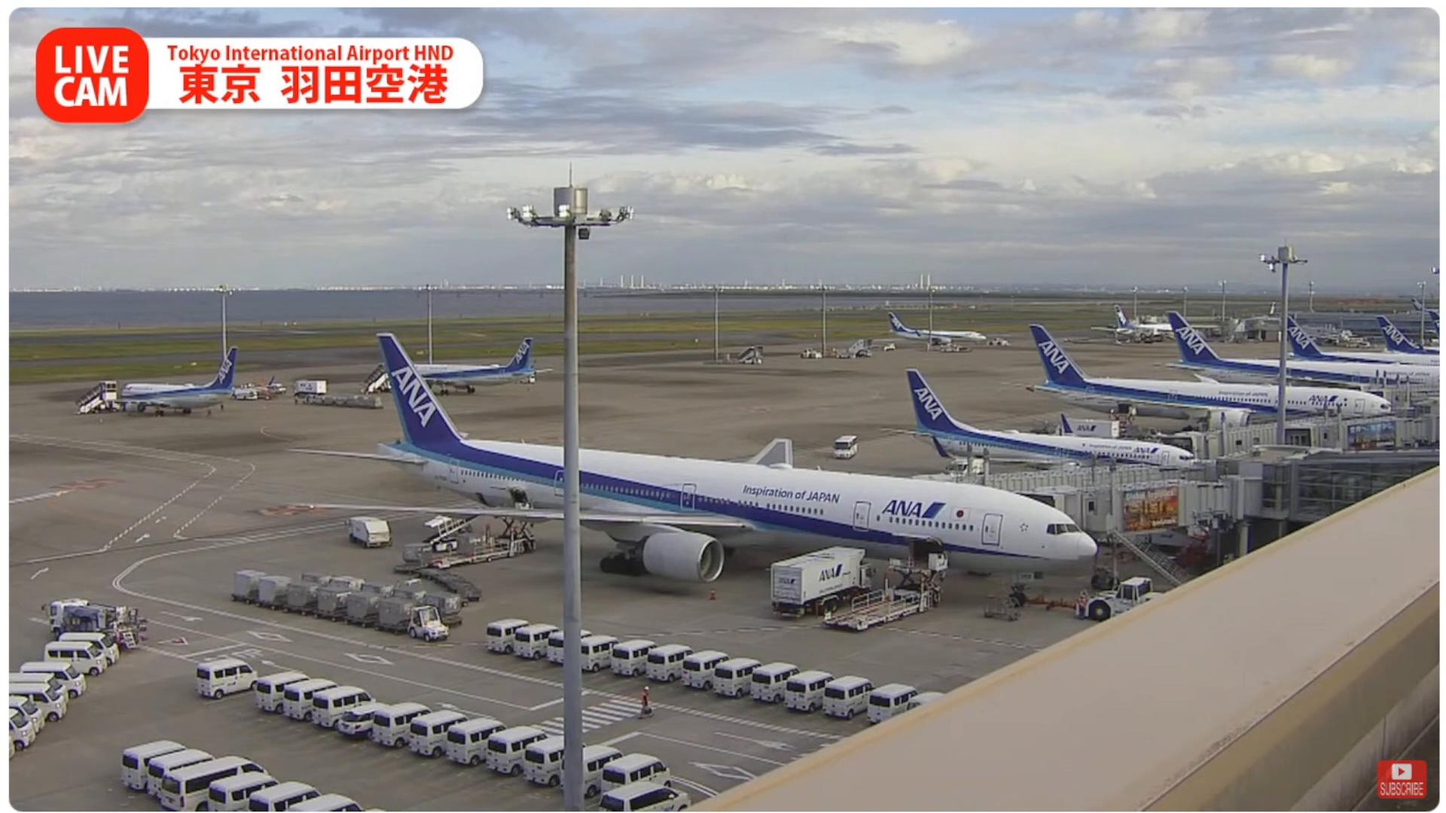APS: (1079, 573, 1169, 620)
Aerobridge: (937, 438, 1217, 490), (1025, 480, 1229, 535)
Airplane: (279, 328, 1098, 610)
Baggage truck: (348, 512, 393, 549)
Catering: (759, 543, 875, 624)
Dolly: (231, 588, 412, 640), (386, 555, 488, 606)
JCPL: (802, 561, 946, 636), (447, 519, 535, 571)
Skyloader: (416, 502, 490, 546)
Tractor: (403, 609, 457, 642)
Window: (1286, 455, 1435, 523)
